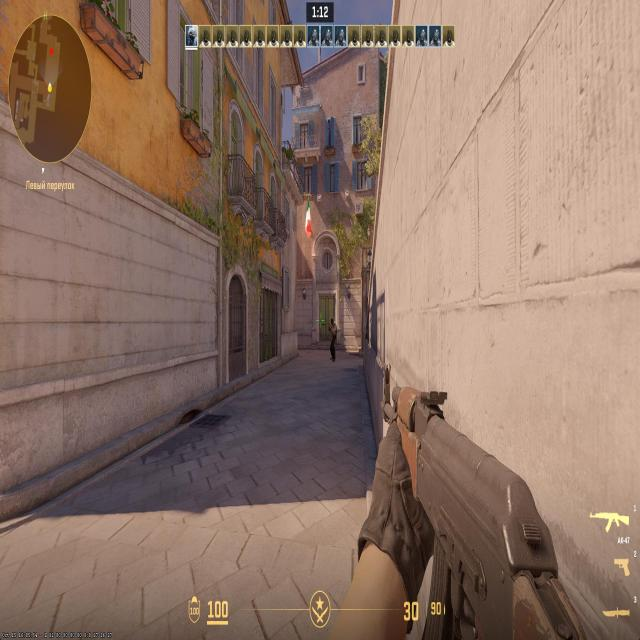T: (329, 318, 337, 356)
T_heat: (331, 321, 334, 326)
